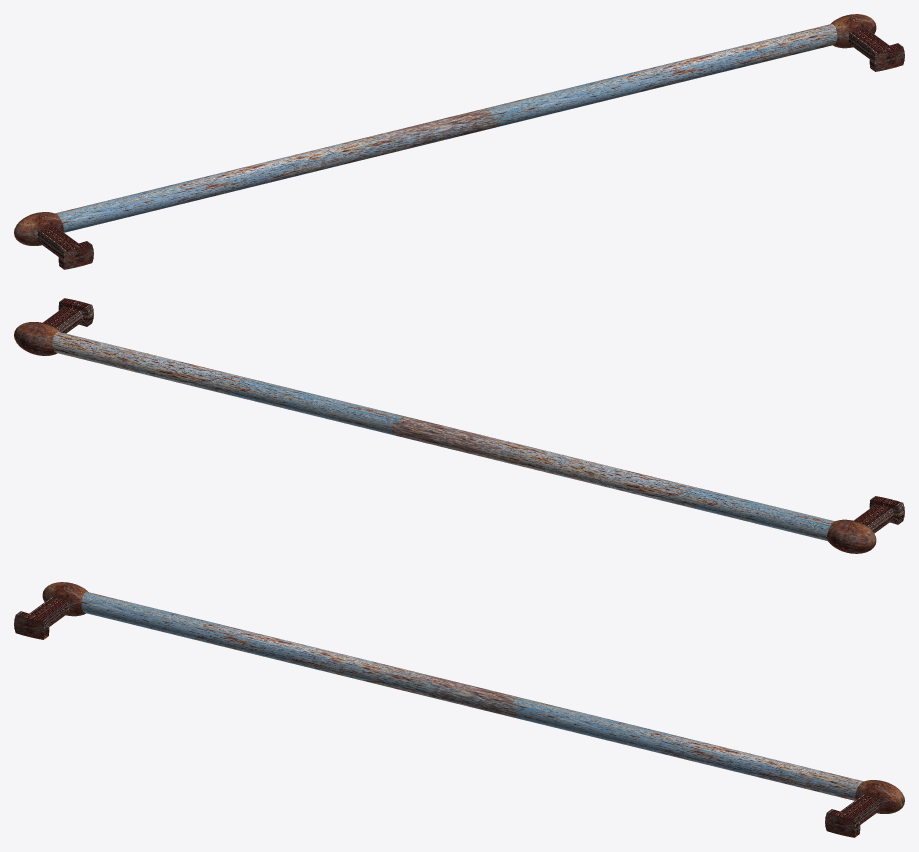
File: Cornice.glb
The picture shows the model from 3 angles, top to bottom: view 1: azimuth 30°, elevation 25°; view 2: azimuth 150°, elevation 25°; view 3: azimuth 330°, elevation 25°; orthographic projection.
Visible parts, largest first — view 1: curtain kitchen.001; view 2: curtain kitchen.001; view 3: curtain kitchen.001.
Part boxes in pixels (x1=…): curtain kitchen.001: x1=14, y1=14, x2=904, y2=269; curtain kitchen.001: x1=14, y1=298, x2=904, y2=553; curtain kitchen.001: x1=14, y1=582, x2=904, y2=837.
Size of the model in its own units: 16.79 by 0.5556 by 1.62.
Materials: 2 (2 with a texture image).
